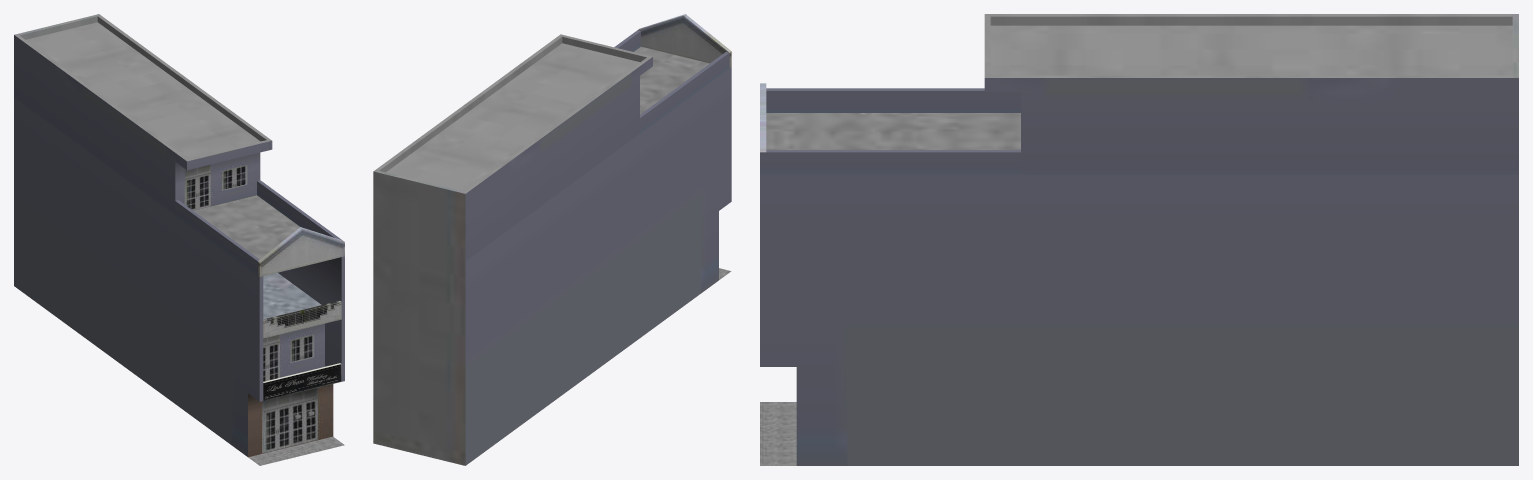
The picture shows the model from 3 angles, left to right: view 1: azimuth 30°, elevation 25°; view 2: azimuth 150°, elevation 25°; view 3: azimuth 270°, elevation 25°; orthographic projection. The views are drawn at different scales.
Visible parts, largest first — view 1: 5cdccbd19b24b8cd08c41a66.001; view 2: 5cdccbd19b24b8cd08c41a66.001; view 3: 5cdccbd19b24b8cd08c41a66.001.
Part boxes in pixels (x1,y1,x2,y2): 5cdccbd19b24b8cd08c41a66.001: (14, 14, 344, 465); 5cdccbd19b24b8cd08c41a66.001: (373, 14, 731, 465); 5cdccbd19b24b8cd08c41a66.001: (760, 14, 1518, 465).
Bounding box in the file's own units: 5 × 14.1 × 25.
Materials: 1 (1 with a texture image).
